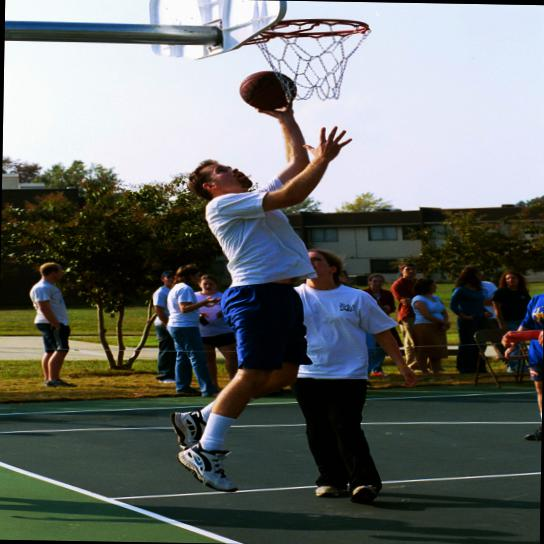basketball-hoop: (246, 15, 370, 102)
